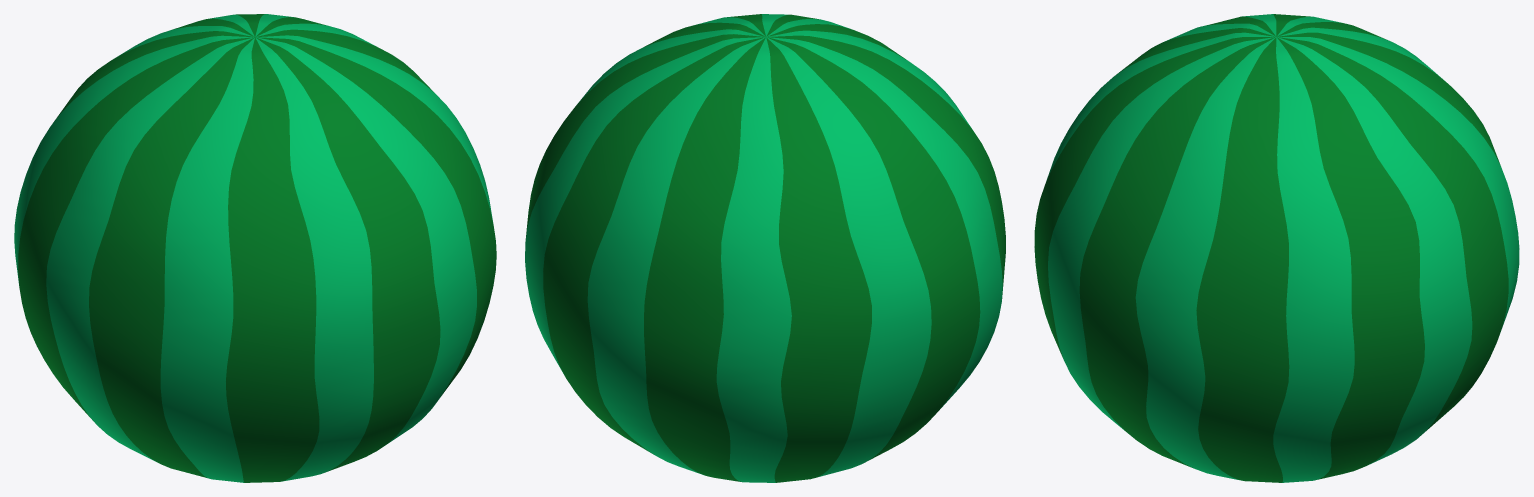
Rendered from watermelon.glb.
3 renders of one model, left to right at view 1: azimuth 30°, elevation 25°; view 2: azimuth 150°, elevation 25°; view 3: azimuth 270°, elevation 25°, orthographic.
Parts seen in each view (by area): view 1: Watermelon; view 2: Watermelon; view 3: Watermelon.
Part boxes in pixels (x1=…): Watermelon: x1=14, y1=14, x2=496, y2=482; Watermelon: x1=525, y1=14, x2=1005, y2=482; Watermelon: x1=1034, y1=14, x2=1519, y2=482.
Size of the model in its own units: 0.3042 by 0.2931 by 0.3046.
Materials: 1 (1 with a texture image).
